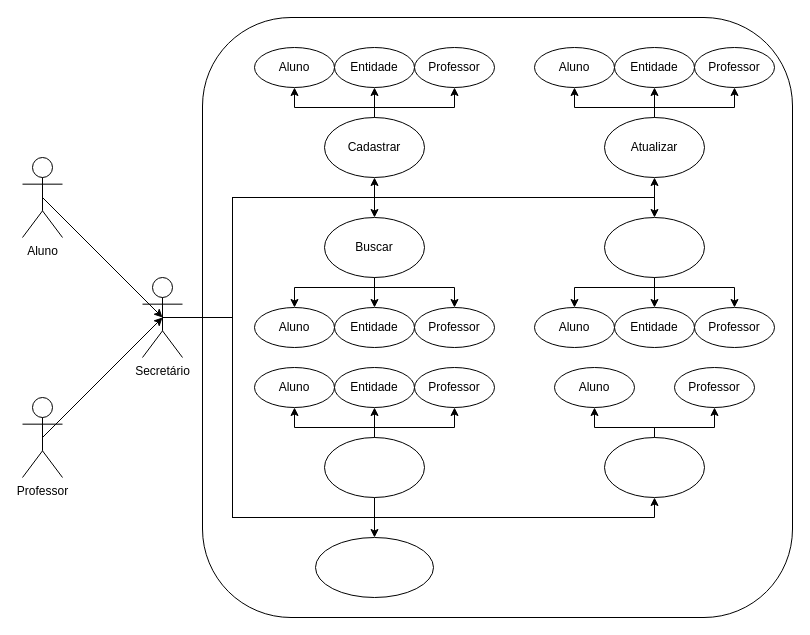
The diagram is 810 pixels wide and 635 high, and some of its shapes have lost their labels. Here are the shapes that lost their labels. From the top down, the box of each, then its label:
(604, 216, 704, 278): Deletar
(324, 436, 424, 498): Emitir Relatório
(604, 436, 704, 498): Emitir Carteira de Filiado
(314, 536, 434, 598): Gerar Relatório de Aniversariante
